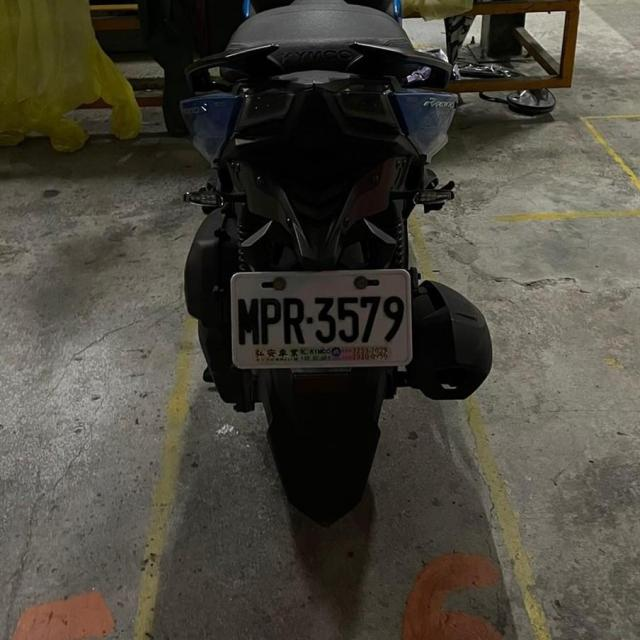W: (228, 264, 413, 372)
